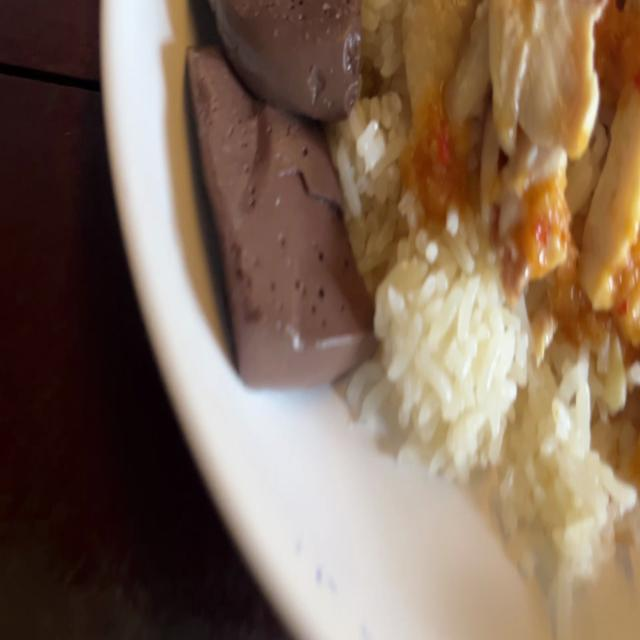boiled_chicken: (382, 0, 640, 391)
boiled_chicken_blood_jelly: (185, 0, 376, 382)
chicken_rice: (172, 0, 640, 640)
